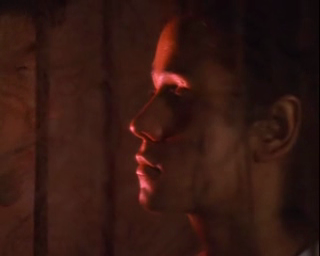cu: (1, 1, 320, 256)
face: (127, 40, 231, 215)
person: (127, 1, 320, 256)
